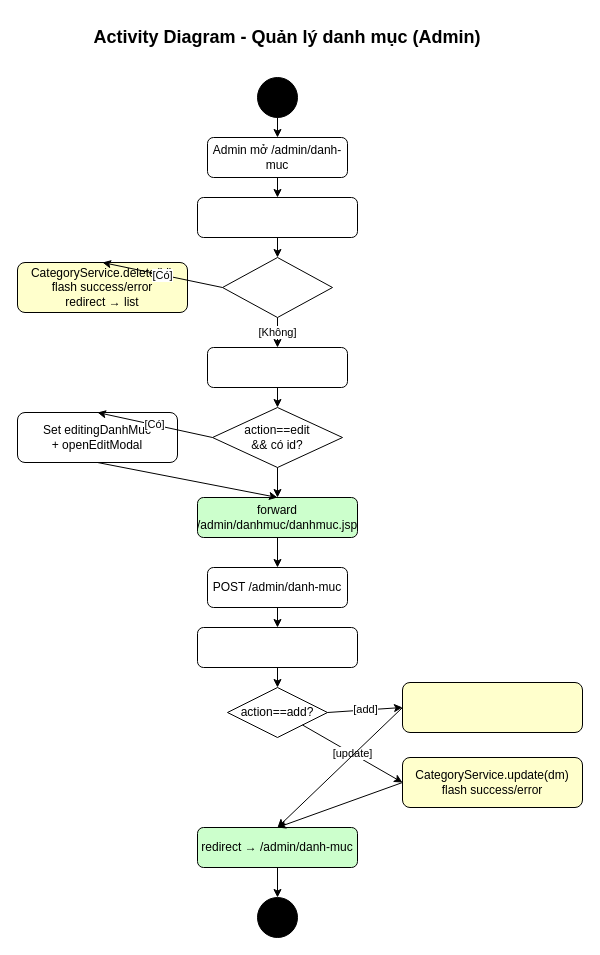
Some shapes in this 600 by 955 pixel diagram are drawn without their labels. The centre of each missing label's shape, as x and y in pixels:
"action==delete?" goes at pixel 277 287.
"CategoryService.create(dm) flash success/error" goes at pixel 492 707.
"DanhMucServlet.doGet()" goes at pixel 277 217.
"DanhMucServlet.doPost()" goes at pixel 277 647.
"list = CategoryService.getAll()" goes at pixel 277 367.
